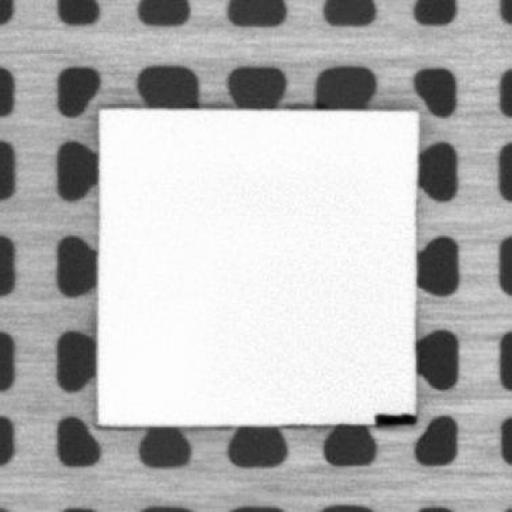DIE_BROKEN: (370, 410, 417, 426)
